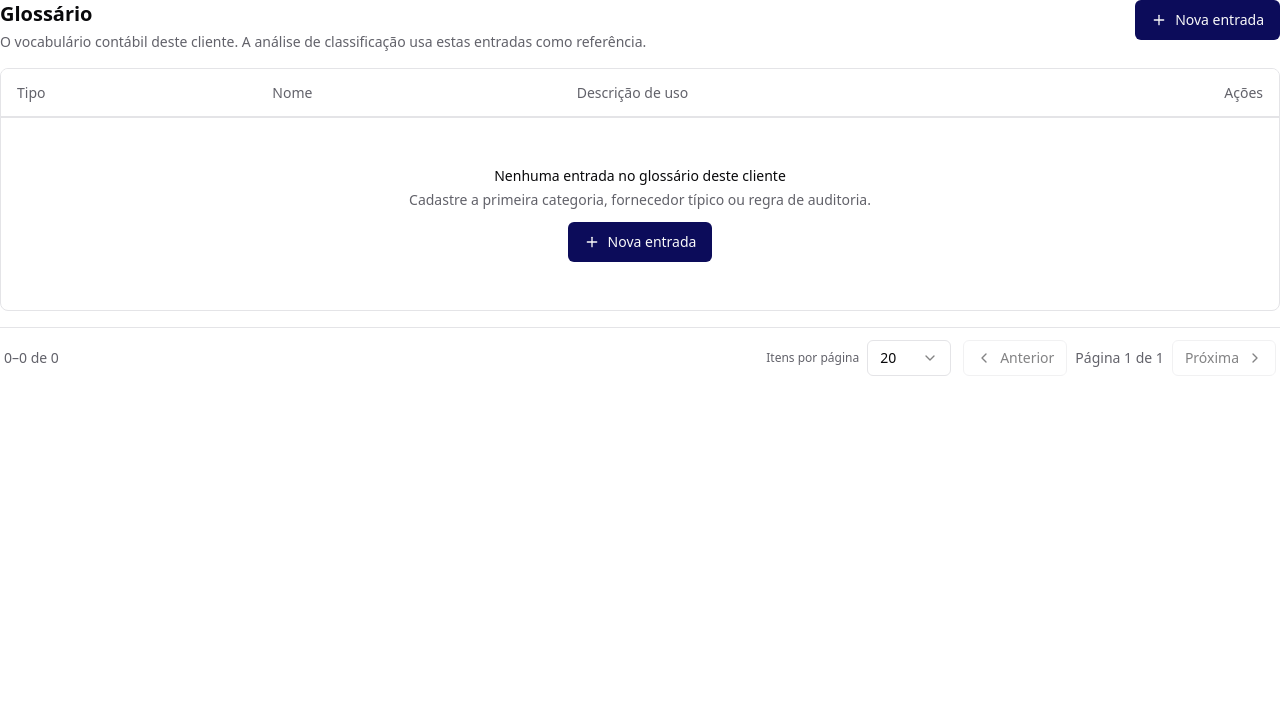
Test: GlossaryScreen — lista › empty-state traz um botão real para o primeiro cadastro
Expected: the text "Nenhuma entrada no glossário deste cliente" is shown, [494,166,786,184]
Click the button "Nova entrada" below "Nome" at (640, 242), box [568,222,712,262]
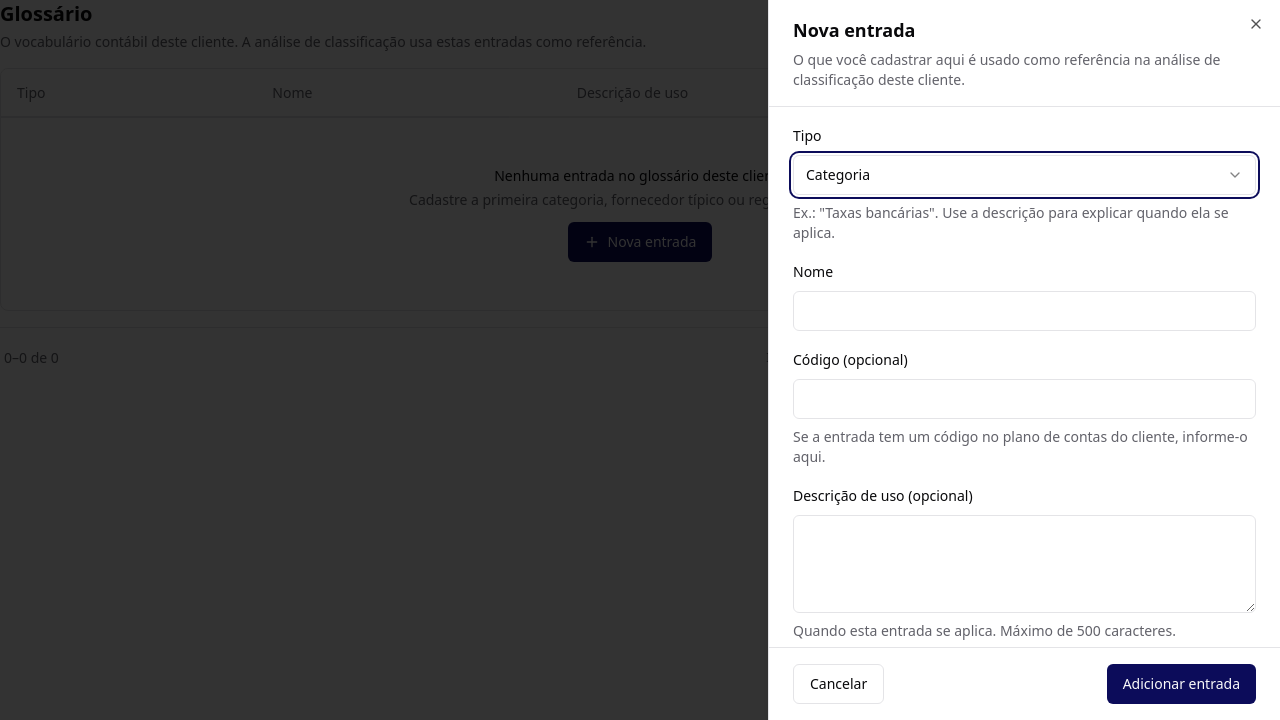
Result: the dialog is shown at [768,0,1279,719]
